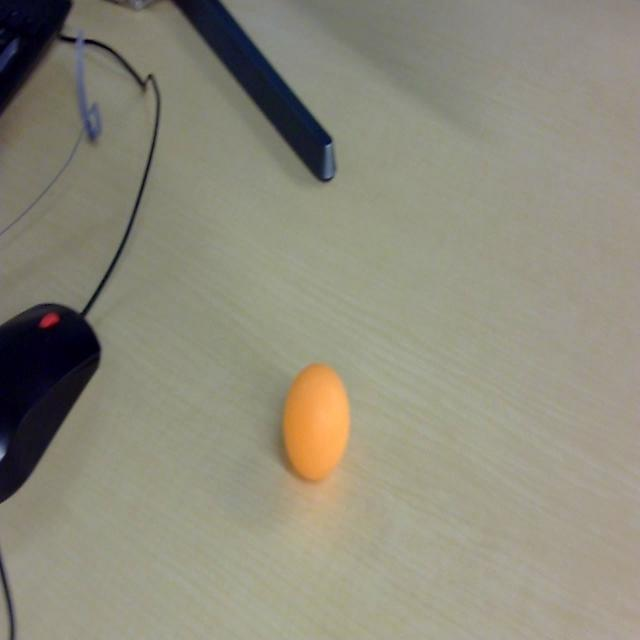ball: (280, 360, 352, 485)
